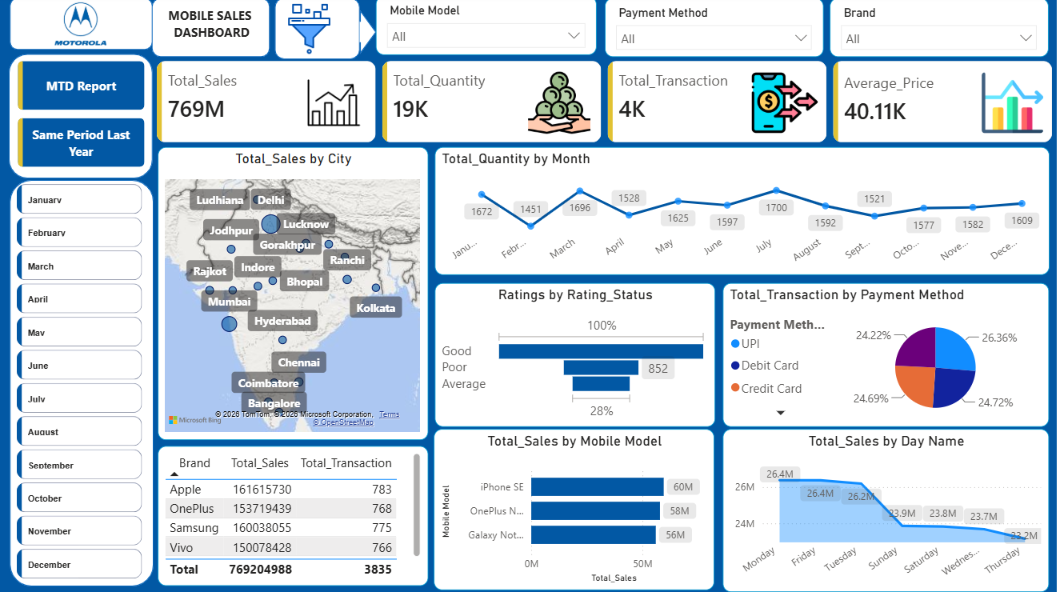

The dashboard page shown, as its layout file describes it:
{"tool":"powerbi","page":{"name":"Dashboard","canvas":[1280,720],"ordinal":0},"visuals":[{"type":"shape","box":[418.5,16.3,39.1,53.3],"z":0},{"type":"shape","box":[15.3,2.8,172.2,62.5],"z":1000},{"type":"image","box":[46.2,2.5,110,62.5],"z":2000},{"type":"shape","box":[15.3,222.2,173.6,490.3],"z":3000},{"type":"shape","box":[13.9,69.4,173.6,150],"z":4000},{"type":"advancedSlicerVisual","fields":{"Values":["Custom Calender.Date.Variation.Date Hierarchy.Month"]},"box":[19.7,222.5,162,497.2],"z":5000},{"type":"cardVisual","fields":{"Data":["Mobile Sales Data.Total_Sales","Mobile Sales Data.Total_Quantity","Mobile Sales Data.Total_Transaction","Mobile Sales Data.Average_Price"]},"box":[188.8,73.8,1091.2,108.8],"z":6000},{"type":"slicer","fields":{"Values":["Mobile Sales Data.Mobile Model"]},"box":[457.5,0,266.2,71.2],"z":7000},{"type":"slicer","fields":{"Values":["Mobile Sales Data.Payment Method"]},"box":[733.8,2.5,263.8,71.2],"z":8000},{"type":"slicer","fields":{"Values":["Mobile Sales Data.Brand"]},"box":[1005,2.5,263.8,71.2],"z":9000},{"type":"shape","box":[335,2.5,102.5,73.8],"z":10000},{"type":"image","box":[326.2,8.8,102.5,62.5],"z":11000},{"type":"shape","box":[187.5,2.5,142.5,71.2],"z":12000},{"type":"textbox","box":[195,8.8,127.5,56.2],"z":13000},{"type":"map","fields":{"Category":["Mobile Sales Data.City"],"Size":["Mobile Sales Data.Total_Sales"]},"box":[194.6,182.6,326.1,353.3],"z":14000},{"type":"lineChart","fields":{"Category":["Custom Calender.Date.Variation.Date Hierarchy.Month"],"Y":["Mobile Sales Data.Total_Quantity"]},"box":[528.3,182.6,741.3,154.3],"z":15000},{"type":"funnel","title":"Ratings by Rating_Status","fields":{"Y":["CountNonNull(Mobile Sales Data.Customer Age)"],"Category":["Mobile Sales Data.Rating_Status"]},"box":[528.3,345.7,338,173.9],"z":16000},{"type":"pieChart","fields":{"Category":["Mobile Sales Data.Payment Method"],"Y":["Mobile Sales Data.Total_Transaction"]},"box":[876.1,345.7,393.5,173.9],"z":17000},{"type":"clusteredBarChart","fields":{"Y":["Mobile Sales Data.Total_Sales"],"Category":["Mobile Sales Data.Mobile Model"]},"box":[527.1,522.9,338.6,194.3],"z":18000},{"type":"areaChart","fields":{"Y":["Mobile Sales Data.Total_Sales"],"Category":["Custom Calender.Day Name"]},"box":[876.1,522.8,393.5,196.7],"z":19000},{"type":"tableEx","fields":{"Values":["Mobile Sales Data.Brand","Mobile Sales Data.Total_Sales","Mobile Sales Data.Total_Transaction"]},"box":[194.6,543.5,326.1,168.5],"z":20000},{"type":"pageNavigator","box":[25,78.6,153.6,129.8],"z":21000}]}

Visuals, with their boxes in screenshot pixels (x1, y1, x2, y2), scaled from the page's 1280x720 canvas onto the 1057x592 screenshot:
shape: <region>346, 13, 378, 57</region>
shape: <region>13, 2, 155, 54</region>
image: <region>38, 2, 129, 53</region>
shape: <region>13, 183, 156, 586</region>
shape: <region>11, 57, 155, 180</region>
advancedSlicerVisual - Custom Calender.Date.Variation.Date Hierarchy.Month: <region>16, 183, 150, 591</region>
cardVisual - Mobile Sales Data.Total_Sales x Mobile Sales Data.Total_Quantity: <region>156, 61, 1056, 150</region>
slicer - Mobile Sales Data.Mobile Model: <region>378, 0, 598, 59</region>
slicer - Mobile Sales Data.Payment Method: <region>606, 2, 824, 61</region>
slicer - Mobile Sales Data.Brand: <region>830, 2, 1048, 61</region>
shape: <region>277, 2, 361, 63</region>
image: <region>269, 7, 354, 59</region>
shape: <region>155, 2, 273, 61</region>
textbox: <region>161, 7, 266, 53</region>
map - Mobile Sales Data.City x Mobile Sales Data.Total_Sales: <region>161, 150, 430, 441</region>
lineChart - Custom Calender.Date.Variation.Date Hierarchy.Month x Mobile Sales Data.Total_Quantity: <region>436, 150, 1048, 277</region>
"Ratings by Rating_Status" funnel: <region>436, 284, 715, 427</region>
pieChart - Mobile Sales Data.Payment Method x Mobile Sales Data.Total_Transaction: <region>723, 284, 1048, 427</region>
clusteredBarChart - Mobile Sales Data.Total_Sales x Mobile Sales Data.Mobile Model: <region>435, 430, 715, 590</region>
areaChart - Mobile Sales Data.Total_Sales x Custom Calender.Day Name: <region>723, 430, 1048, 591</region>
tableEx - Mobile Sales Data.Brand x Mobile Sales Data.Total_Sales: <region>161, 447, 430, 585</region>
pageNavigator: <region>21, 65, 147, 171</region>
